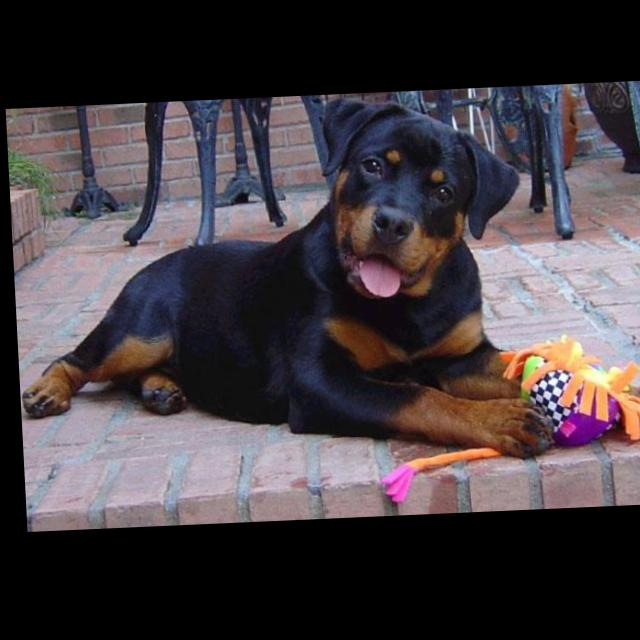rottweiler: (7, 91, 553, 480)
